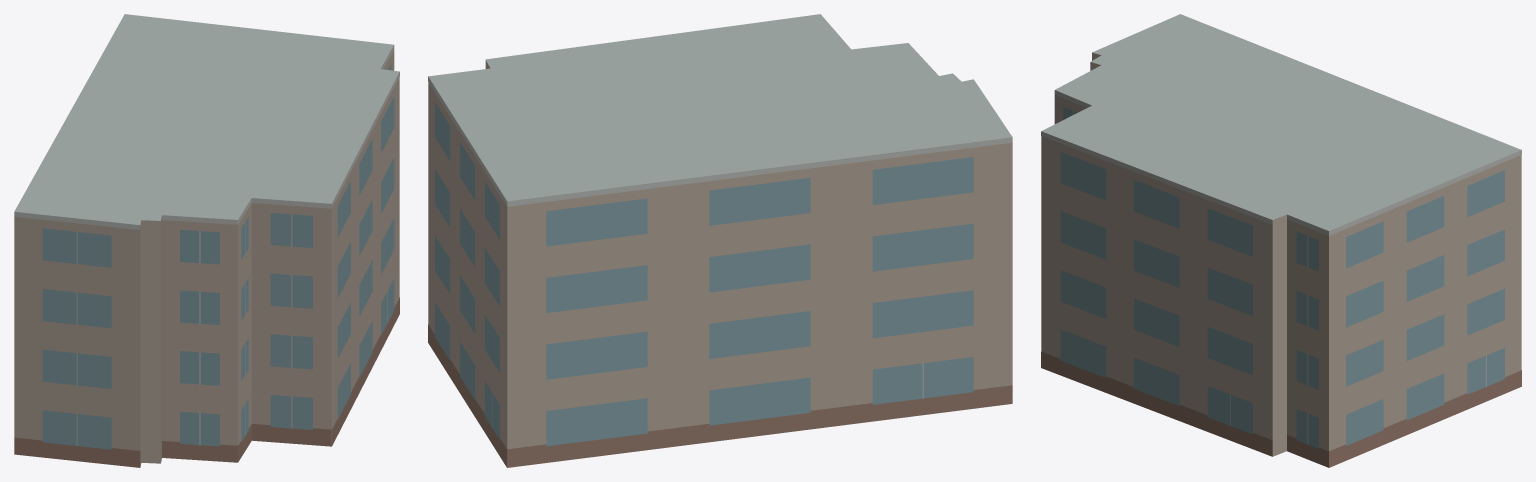
Rendered from survey-upis-32770104.glb.
The picture shows the model from 3 angles, left to right: view 1: azimuth 30°, elevation 25°; view 2: azimuth 150°, elevation 25°; view 3: azimuth 270°, elevation 25°; orthographic projection. The views are drawn at different scales.
Parts seen in each view (by area): view 1: survey-upis-32770104.tmp; view 2: survey-upis-32770104.tmp; view 3: survey-upis-32770104.tmp.
Boxes of the visible parts, x1=… form: survey-upis-32770104.tmp: x1=14, y1=14, x2=399, y2=467; survey-upis-32770104.tmp: x1=428, y1=14, x2=1012, y2=467; survey-upis-32770104.tmp: x1=1041, y1=14, x2=1521, y2=467.
Bounding box in the file's own units: 23.81 × 12.1 × 22.27.
